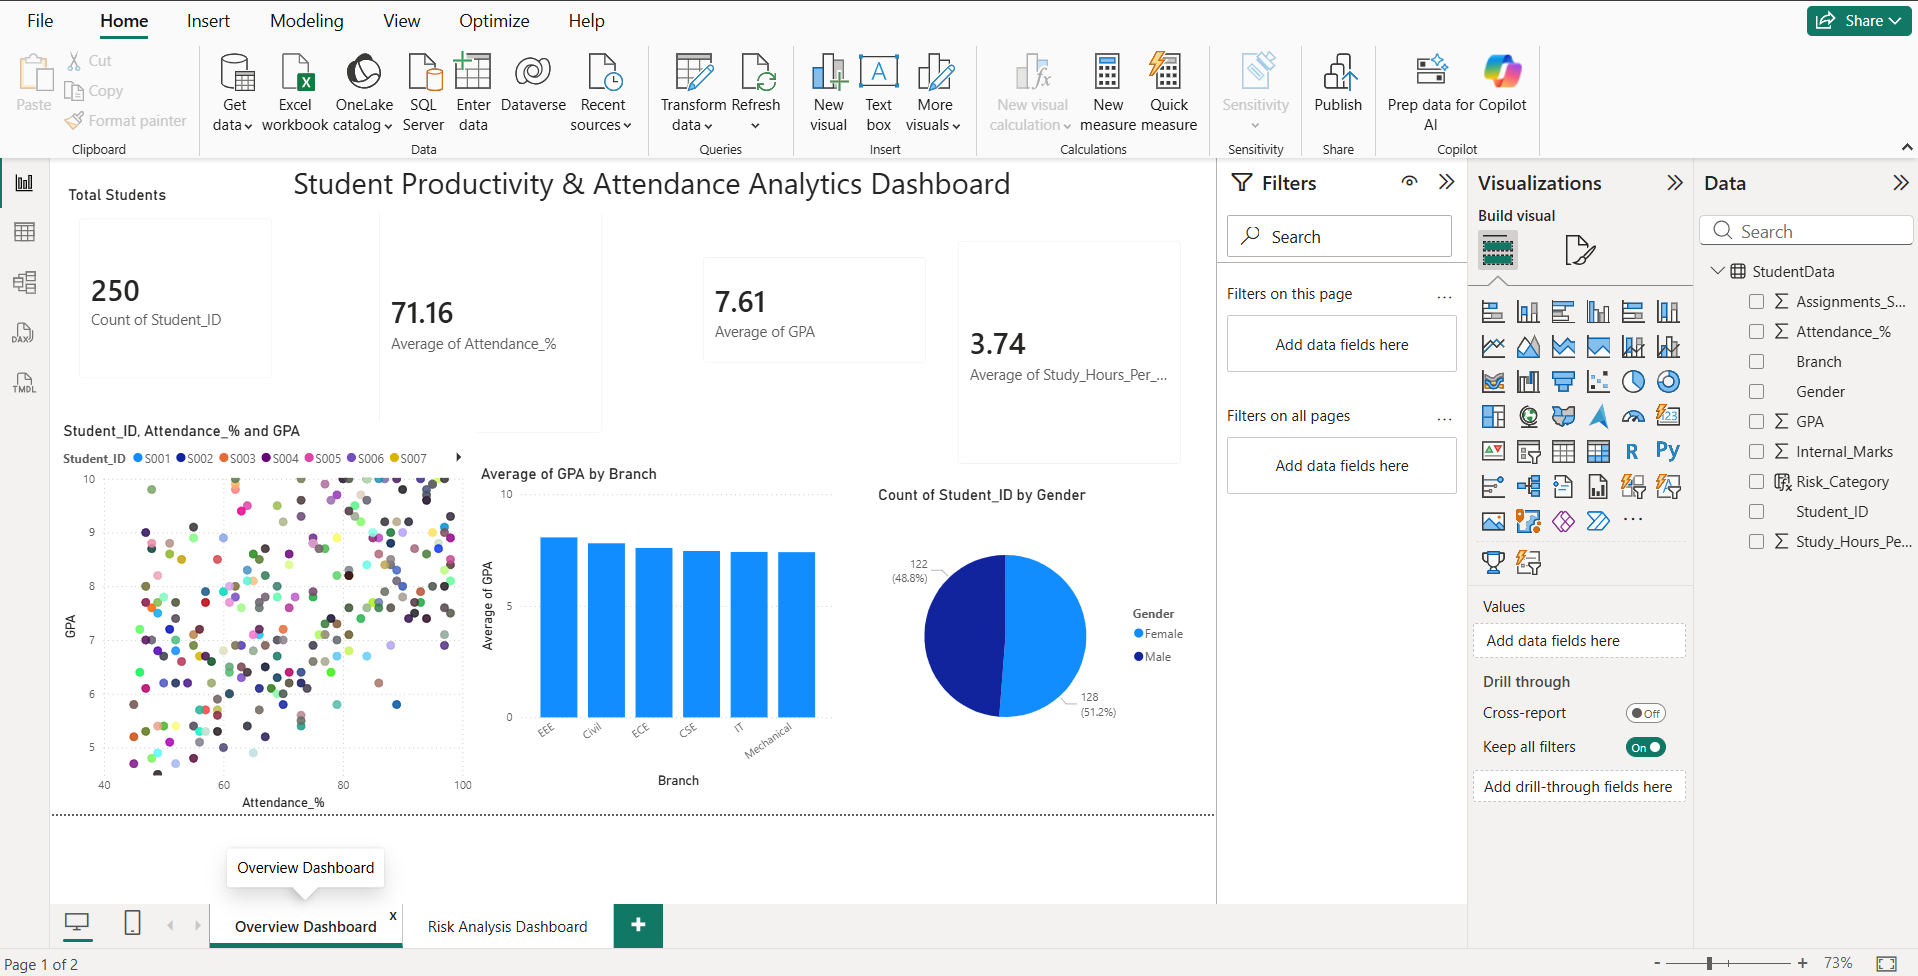

This screenshot's page, from the dashboard's own definition file:
{"tool":"powerbi","page":{"name":"Overview Dashboard","canvas":[1280,720],"ordinal":0},"visuals":[{"type":"cardVisual","title":"Total  Students","fields":{"Data":["Count(StudentData.Student_ID)"]},"box":[15.1,30.2,247,229.2],"z":0},{"type":"cardVisual","fields":{"Data":["Avg(StudentData.Attendance_%)"]},"box":[344.4,39.8,279.9,279.9],"z":1000},{"type":"cardVisual","fields":{"Data":["Avg(StudentData.GPA)"]},"box":[699.8,91.9,279.9,150.9],"z":2000},{"type":"cardVisual","fields":{"Data":["Avg(StudentData.Study_Hours_Per_Day)"]},"box":[979.8,74.1,279.9,279.9],"z":3000},{"type":"scatterChart","fields":{"X":["StudentData.Attendance_%"],"Y":["StudentData.GPA"],"Series":["StudentData.Student_ID"]},"box":[9.6,289.5,458.3,430.9],"z":4000},{"type":"clusteredColumnChart","fields":{"Category":["StudentData.Branch"],"Y":["Avg(StudentData.GPA)"]},"box":[467.9,336.2,399.3,360.9],"z":5000},{"type":"pieChart","fields":{"Category":["StudentData.Gender"],"Y":["CountNonNull(StudentData.Student_ID)"]},"box":[904.3,359.5,355.4,311.5],"z":6000},{"type":"textbox","box":[262.1,0,923.5,60.4],"z":7000}]}

Visuals, with their boxes on the page's 1280x720 design canvas (x1, y1, x2, y2). These are canvas units, not pixel positions in the 1918x976 screenshot, which may show the page scaled, cropped or inside an application window:
"Total  Students" cardVisual: region(15, 30, 262, 259)
cardVisual - Avg(StudentData.Attendance_%): region(344, 40, 624, 320)
cardVisual - Avg(StudentData.GPA): region(700, 92, 980, 243)
cardVisual - Avg(StudentData.Study_Hours_Per_Day): region(980, 74, 1260, 354)
scatterChart - StudentData.Attendance_% x StudentData.GPA: region(10, 290, 468, 720)
clusteredColumnChart - StudentData.Branch x Avg(StudentData.GPA): region(468, 336, 867, 697)
pieChart - StudentData.Gender x CountNonNull(StudentData.Student_ID): region(904, 360, 1260, 671)
textbox: region(262, 0, 1186, 60)
